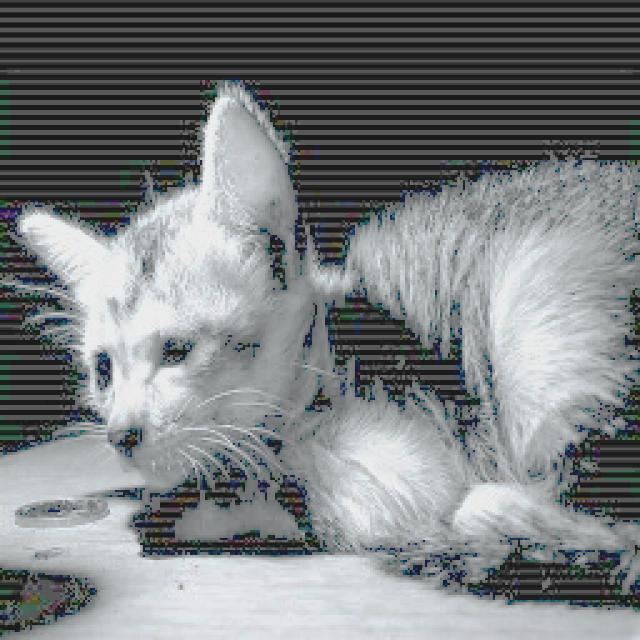cat: (15, 87, 640, 595)
